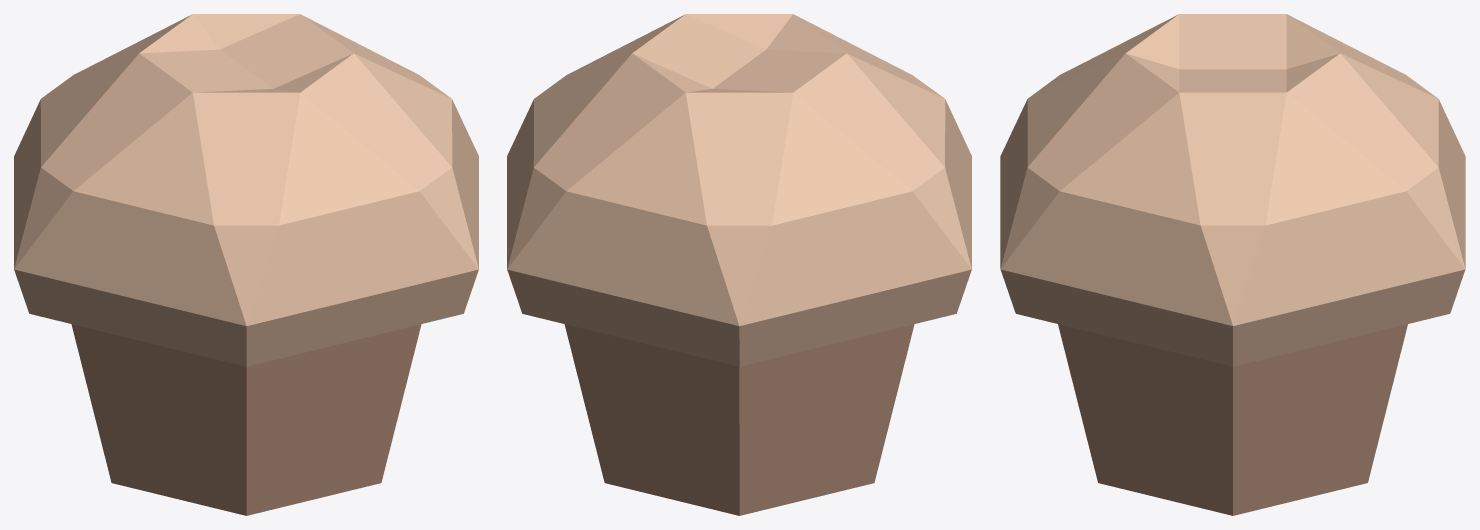
The model's file is muffin.glb.
3 renders of one model, left to right at view 1: azimuth 30°, elevation 25°; view 2: azimuth 150°, elevation 25°; view 3: azimuth 270°, elevation 25°, orthographic.
Parts seen in each view (by area): view 1: muffin; view 2: muffin; view 3: muffin.
Part boxes in pixels (left/top/right/bottom): muffin: left=14, top=14, right=478, bottom=515; muffin: left=507, top=14, right=971, bottom=515; muffin: left=1000, top=14, right=1465, bottom=515.
Bounding box in the file's own units: 0.3047 × 0.2485 × 0.2639.
